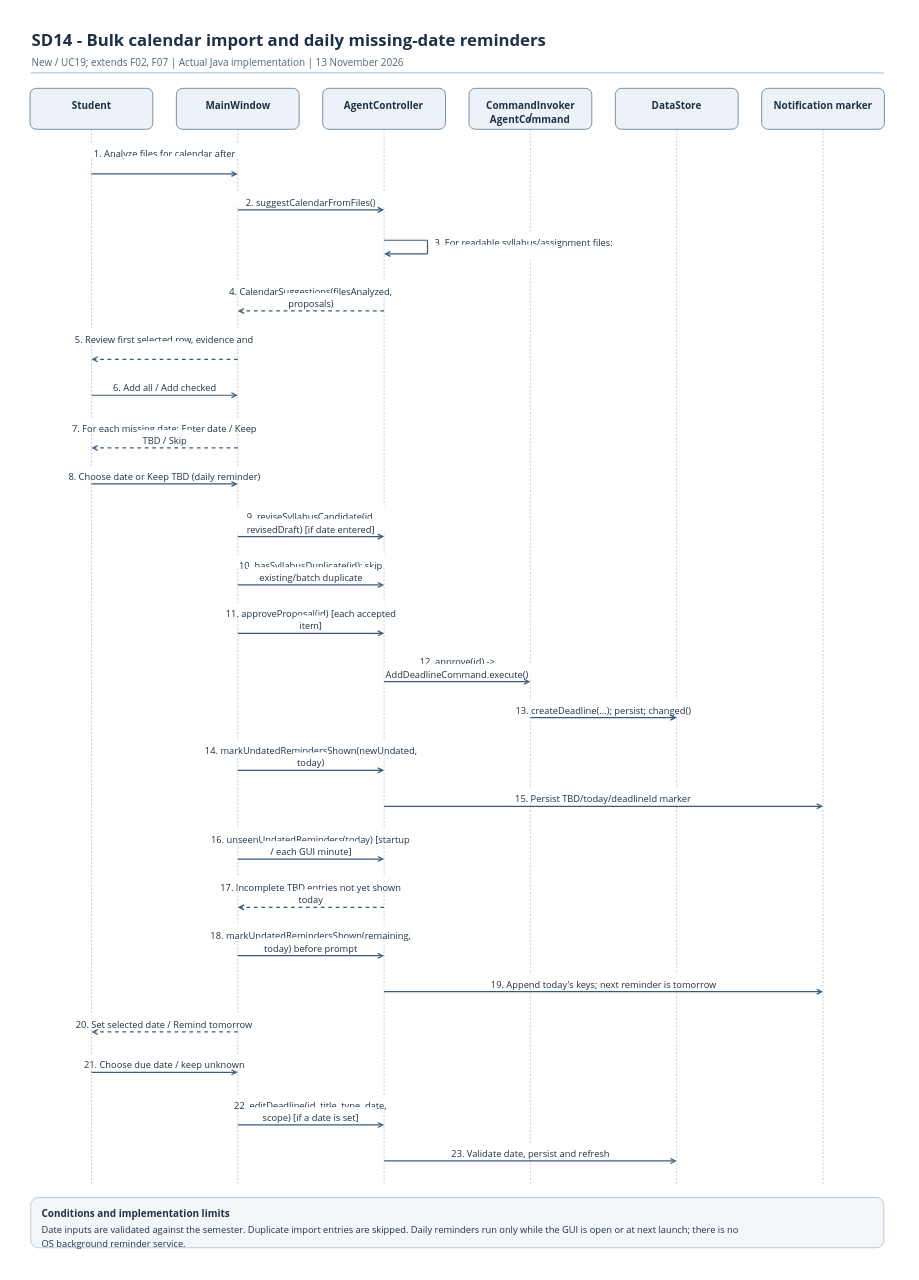
The diagram is 919 pixels wide and 1280 high, and some of its shapes have lost their labels. The shapes that lost their labels are listed below. From the top down, each one's box as (x1, y1, x2, y2) in pixels, then its label:
(124, 156, 205, 169): uploading files
(431, 244, 558, 258): extraction pipeline SD02
(142, 341, 187, 355): warnings
